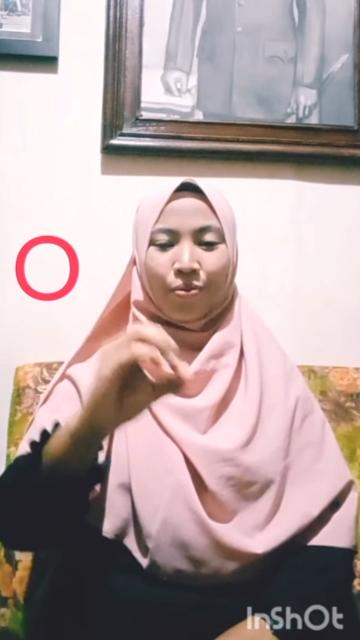O: (92, 325, 194, 433)
